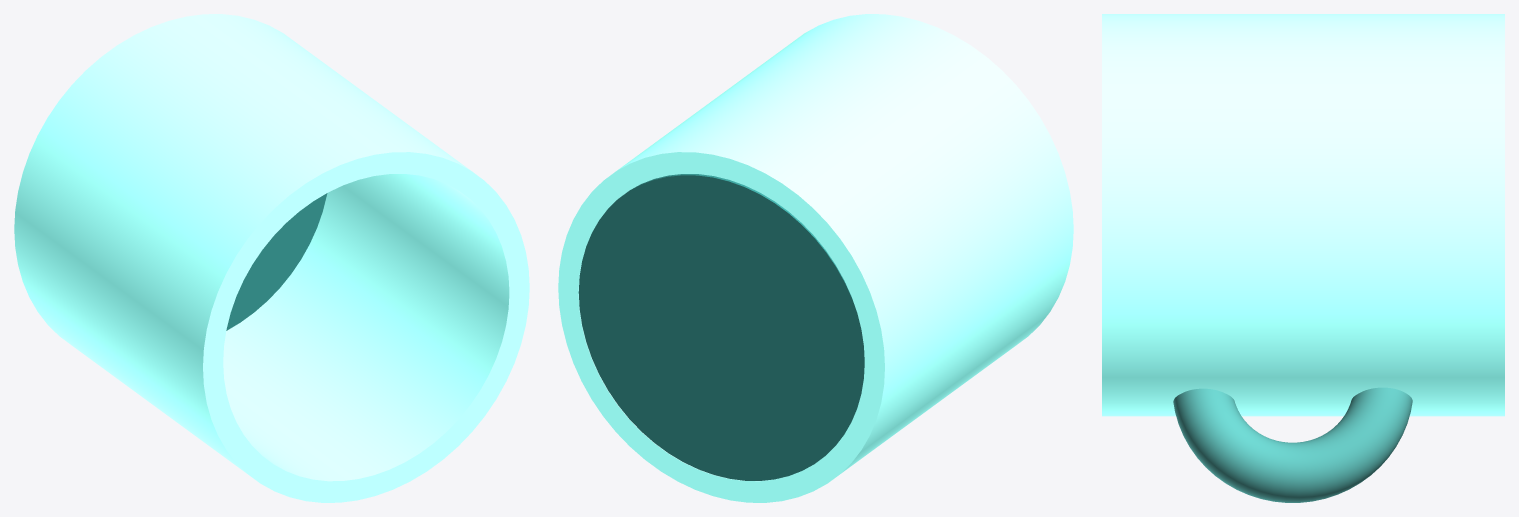
File: CaydenSullivan.gltf
The picture shows the model from 3 angles, left to right: view 1: azimuth 30°, elevation 25°; view 2: azimuth 150°, elevation 25°; view 3: azimuth 270°, elevation 25°; orthographic projection. The views are drawn at different scales.
Parts seen in each view (by area): view 1: mesh4_mesh_4, mesh4_mesh, mesh4_mesh_2, mesh4_mesh_5, mesh4_mesh_1, mesh0_mesh; view 2: mesh4_mesh_4, mesh0_mesh_3, mesh4_mesh_3, mesh4_mesh_5; view 3: mesh4_mesh_4, mesh4_mesh_5, mesh10_mesh_1.
Part boxes in pixels (x1,y1,x2,y2): mesh4_mesh_4: (14, 14, 470, 366); mesh4_mesh: (223, 180, 509, 481); mesh4_mesh_2: (203, 152, 529, 502); mesh4_mesh_5: (14, 229, 249, 475); mesh4_mesh_1: (357, 174, 509, 291); mesh0_mesh: (226, 193, 327, 330); mesh4_mesh_4: (617, 14, 1073, 366); mesh0_mesh_3: (578, 175, 864, 480); mesh4_mesh_3: (558, 152, 884, 502); mesh4_mesh_5: (838, 229, 1073, 475); mesh4_mesh_4: (1102, 14, 1504, 300); mesh4_mesh_5: (1102, 300, 1504, 416); mesh10_mesh_1: (1173, 387, 1412, 501).
Size of the model in its own units: 0.0541 by 0.0534 by 0.0508.
